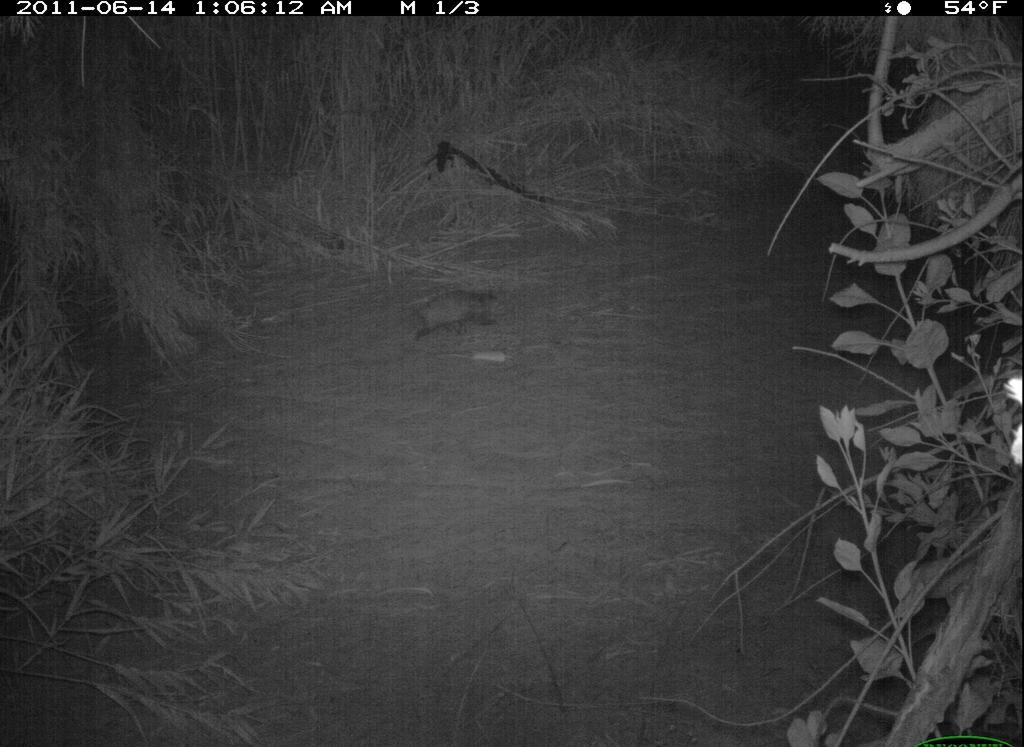opossum: (411, 272, 510, 344)
